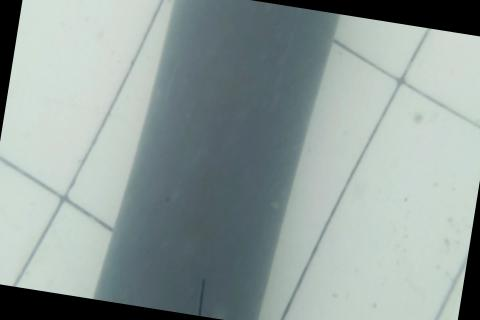keretakan: (194, 275, 210, 316)
